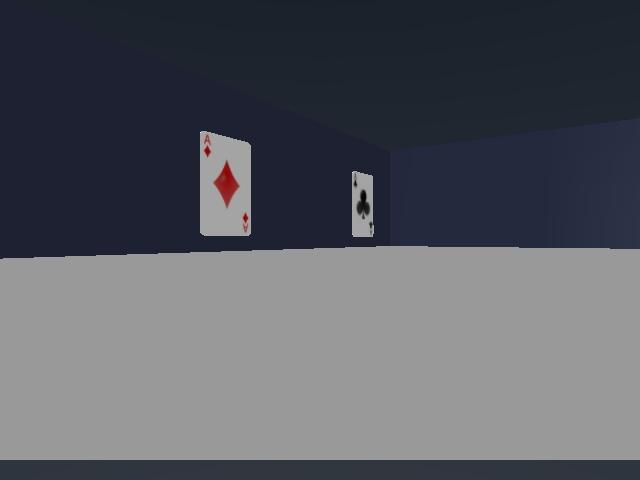club: (352, 172, 373, 236)
diamond: (200, 132, 251, 235)
